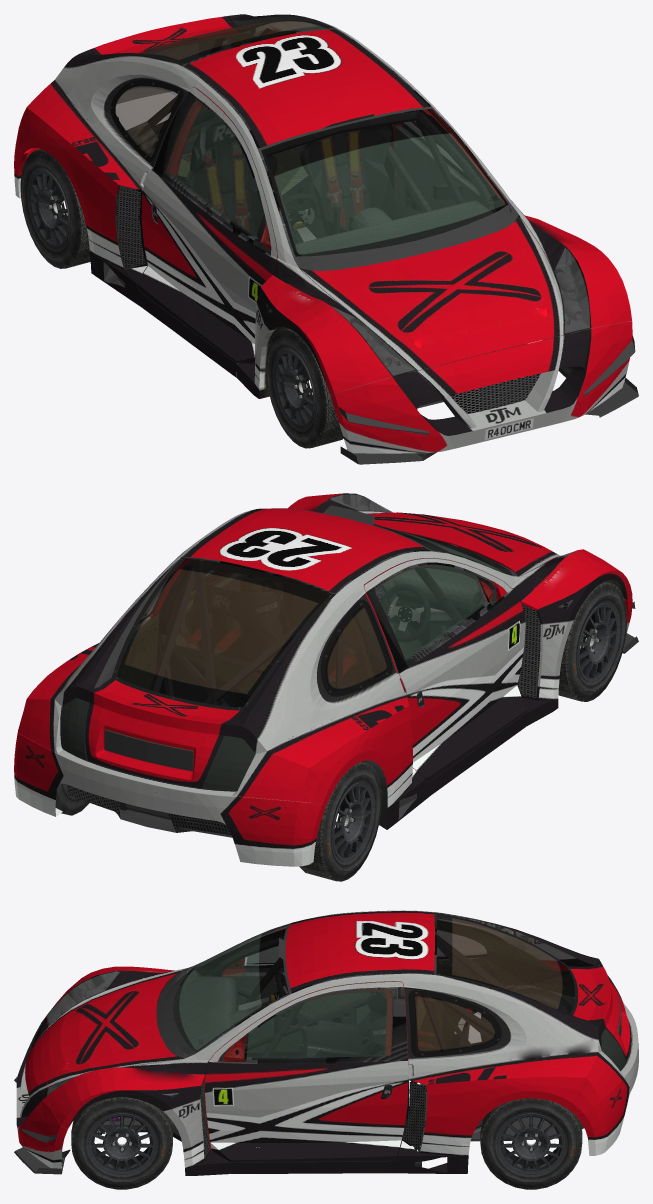
Rendered from car2.fbx.
3 views of the same model, one above another, from view 1: azimuth 30°, elevation 25°; view 2: azimuth 150°, elevation 25°; view 3: azimuth 270°, elevation 25° (orthographic). The views are drawn at different scales.
Parts seen in each view (by area): view 1: main_body_jpg, cr4_glass_jpg, cabinn, cr4_main_jpg1, tyre3, tyre4, Mud_grey_jpg1, black_cover, grillls, cr4_lights_jpg2, light_glass, wheel; view 2: main_body_jpg, cr4_glass_jpg, cabinn, cr4_main_jpg1, tyre4, tyre3, back_light_Glass, grillls, black_cover, wheel, Mud_grey_jpg1, cr4_lights_jpg2 (+2 smaller); view 3: main_body_jpg, cr4_glass_jpg, cabinn, tyre1, tyre2, cr4_main_jpg1, black_cover, grillls, light_glass, cr4_lights_jpg2, Mud_grey_jpg1, tyre4 (+1 smaller).
Boxes of the visible parts, left/top/right/bottom form: main_body_jpg: left=14, top=14, right=632, bottom=453; cr4_glass_jpg: left=110, top=20, right=508, bottom=256; cabinn: left=166, top=31, right=507, bottom=274; cr4_main_jpg1: left=94, top=15, right=518, bottom=408; tyre3: left=266, top=328, right=343, bottom=448; tyre4: left=20, top=149, right=90, bottom=268; Mud_grey_jpg1: left=103, top=121, right=638, bottom=464; black_cover: left=296, top=204, right=518, bottom=272; grillls: left=117, top=111, right=540, bottom=413; cr4_lights_jpg2: left=220, top=24, right=590, bottom=376; light_glass: left=329, top=246, right=591, bottom=376; wheel: left=283, top=193, right=317, bottom=234; main_body_jpg: left=14, top=493, right=632, bottom=866; cr4_glass_jpg: left=111, top=524, right=505, bottom=710; cabinn: left=90, top=543, right=504, bottom=706; cr4_main_jpg1: left=94, top=505, right=556, bottom=837; tyre4: left=299, top=762, right=381, bottom=881; tyre3: left=558, top=582, right=626, bottom=701; back_light_Glass: left=60, top=698, right=255, bottom=791; grillls: left=67, top=604, right=540, bottom=835; black_cover: left=104, top=529, right=518, bottom=771; wheel: left=380, top=584, right=430, bottom=641; Mud_grey_jpg1: left=361, top=601, right=638, bottom=829; cr4_lights_jpg2: left=249, top=493, right=572, bottom=766; main_body_jpg: left=16, top=910, right=638, bottom=1175; cr4_glass_jpg: left=173, top=913, right=578, bottom=1058; cabinn: left=173, top=922, right=574, bottom=1150; tyre1: left=71, top=1097, right=172, bottom=1189; tyre2: left=480, top=1098, right=582, bottom=1189; cr4_main_jpg1: left=103, top=911, right=594, bottom=1141; black_cover: left=156, top=966, right=621, bottom=1059; grillls: left=162, top=1077, right=425, bottom=1157; light_glass: left=46, top=970, right=121, bottom=1095; cr4_lights_jpg2: left=47, top=971, right=604, bottom=1095; Mud_grey_jpg1: left=14, top=983, right=513, bottom=1174; tyre4: left=480, top=985, right=574, bottom=1041.
Size of the model in its own units: 17.18 by 12.43 by 36.48.
